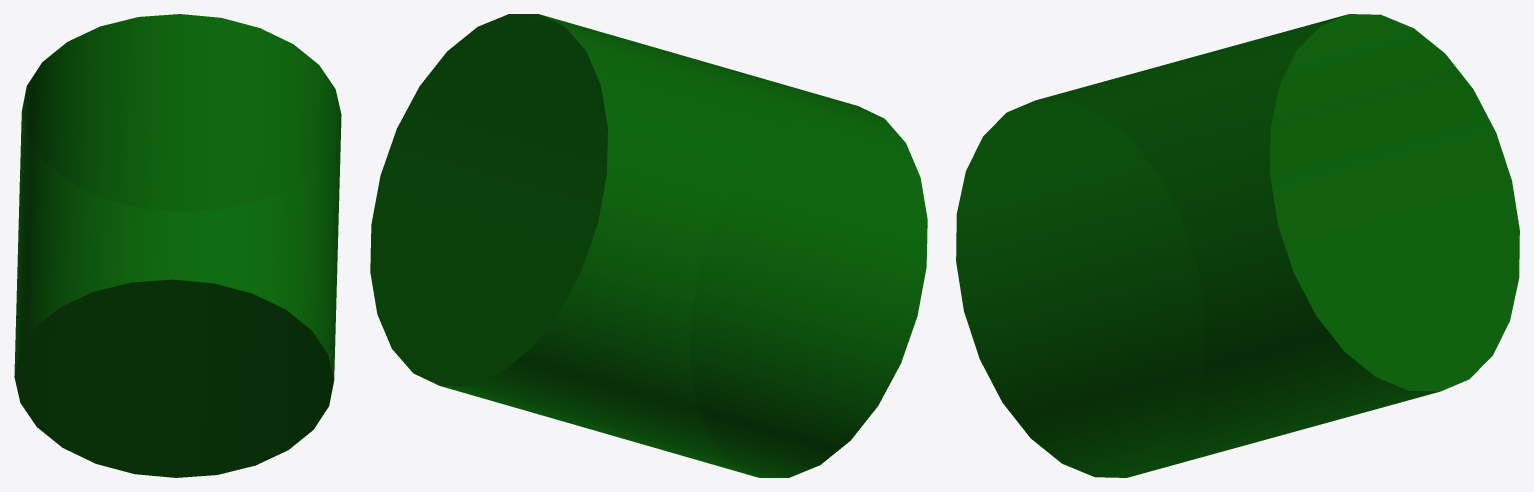
File: Event_195102316_jet_5.fbx
The picture shows the model from 3 angles, left to right: view 1: azimuth 30°, elevation 25°; view 2: azimuth 150°, elevation 25°; view 3: azimuth 270°, elevation 25°; orthographic projection. The views are drawn at different scales.
Visible parts, largest first — view 1: Model; view 2: Model; view 3: Model.
Part boxes in pixels (bbox=[...]): Model: bbox=[14, 14, 341, 477]; Model: bbox=[370, 14, 927, 477]; Model: bbox=[956, 14, 1519, 477].
Size of the model in its own units: 0.0551 by 0.0548 by 0.058.
